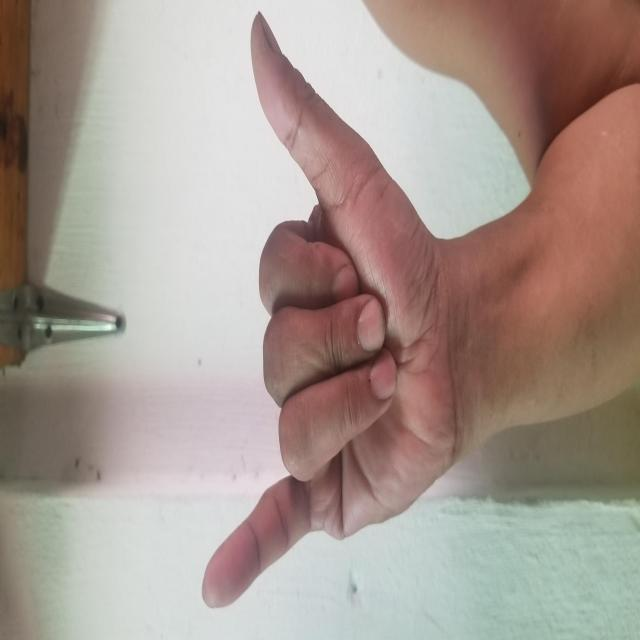Y: (193, 0, 635, 613)
